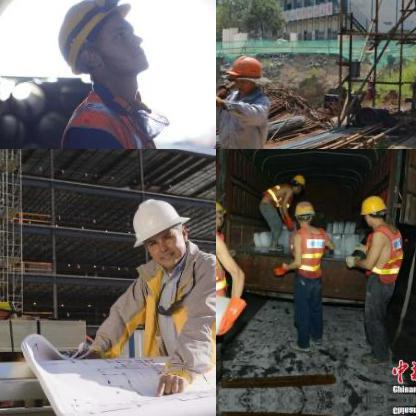Helmet: (55, 0, 150, 81), (125, 190, 193, 271), (221, 50, 264, 92), (357, 192, 387, 228), (292, 197, 314, 223), (216, 194, 227, 231), (290, 170, 306, 194)
